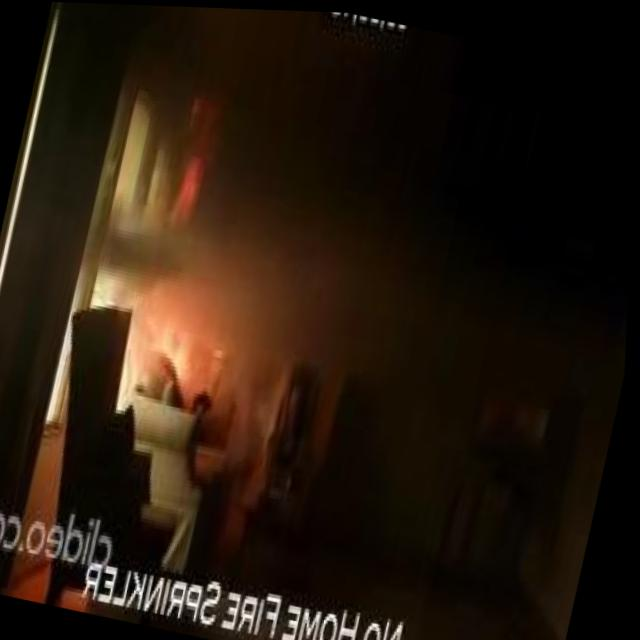fire: (137, 290, 210, 390), (171, 150, 209, 236)
